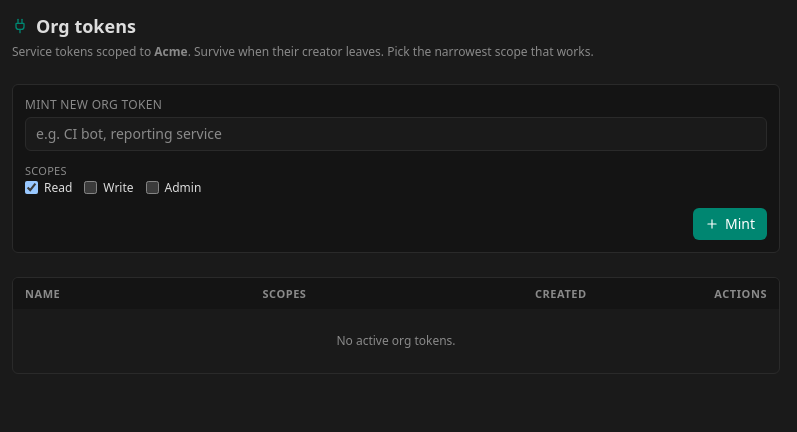
Test: OrgTokensTab › mints a token with the chosen scopes, shows it once, then lists it
Type a name
Type "ci-bot" into the field named "new org token name" at (396, 134), box top-left (25, 117), bottom-right (767, 151)
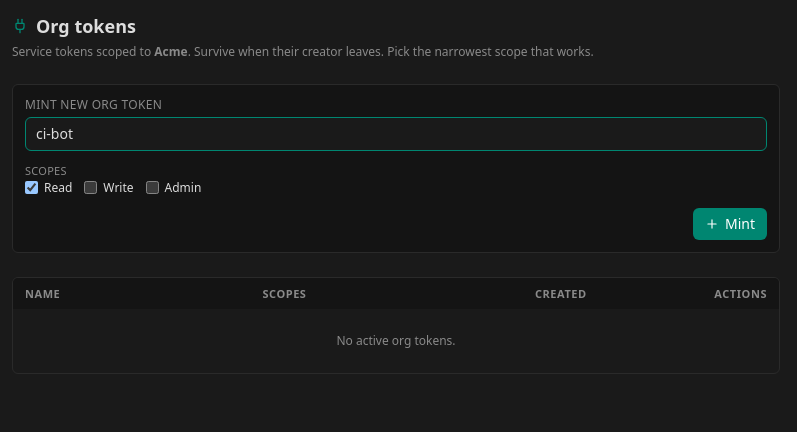
Click the checkbox named "scope write" at (91, 188), box top-left (84, 181), bottom-right (97, 194)
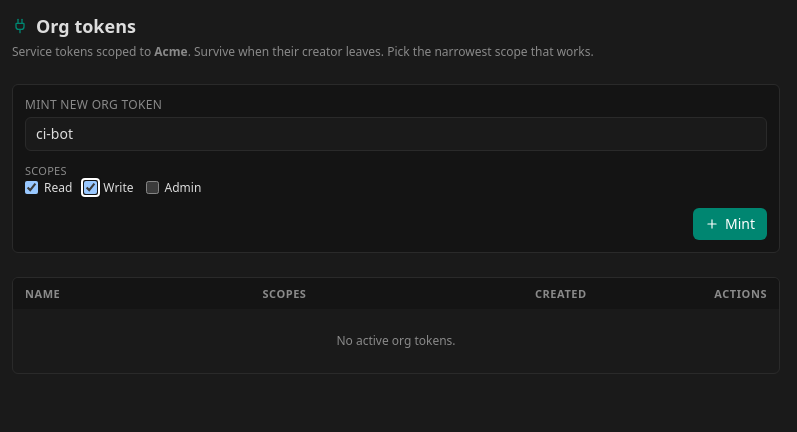
Click the button "Mint" at (730, 224), box top-left (693, 208), bottom-right (767, 240)
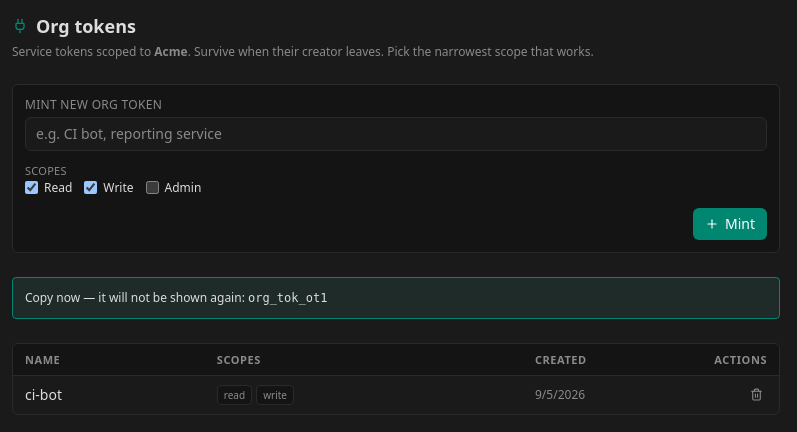
Result: the element with test id "minted-org-token" shows "org_tok_" at top-left (248, 290), bottom-right (328, 304)
Result: the text "ci-bot" is shown at top-left (13, 376), bottom-right (205, 414)
Result: the text "read" is shown at top-left (217, 385), bottom-right (252, 405)
